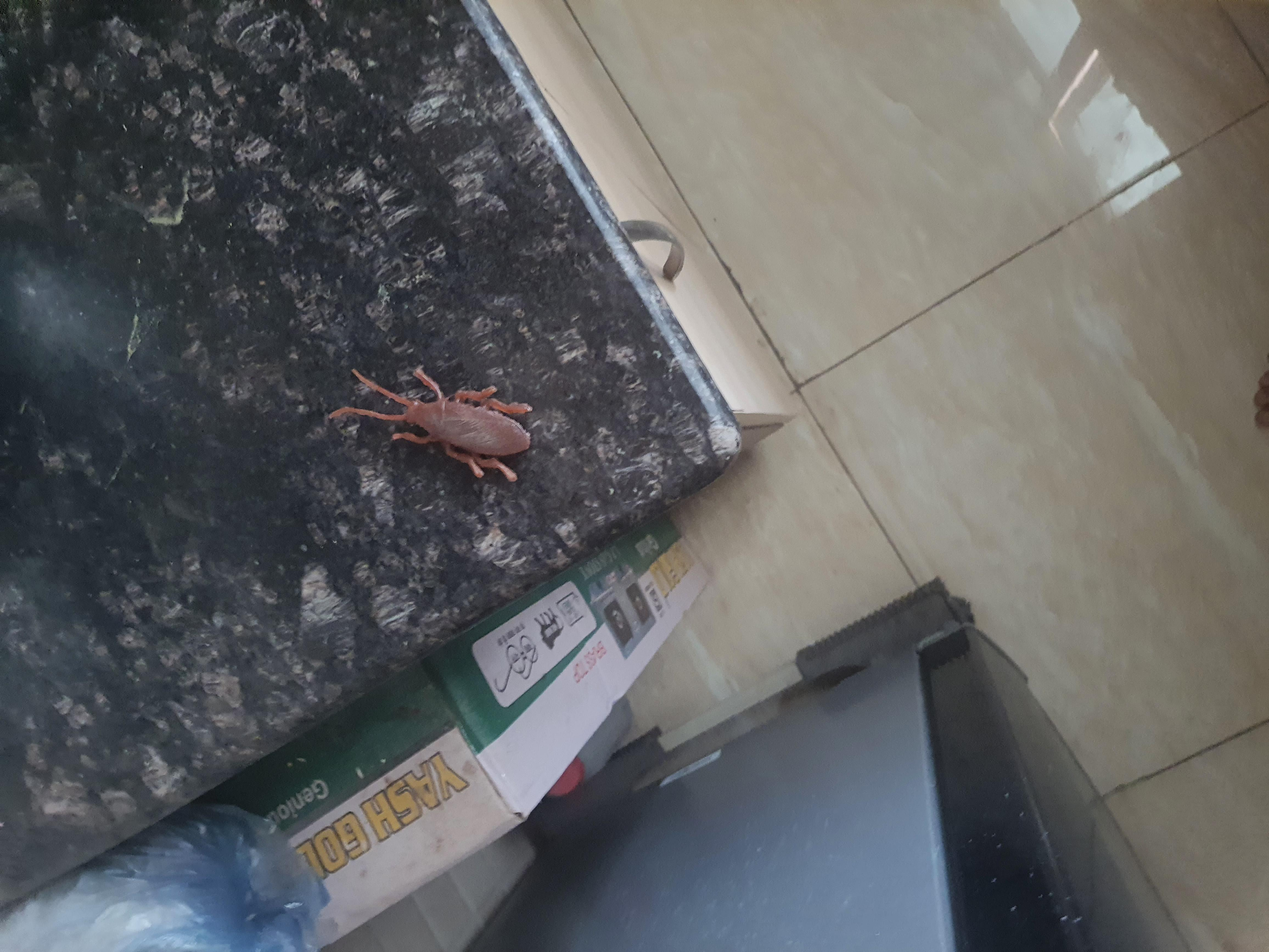cockroach: (618, 246, 771, 408)
